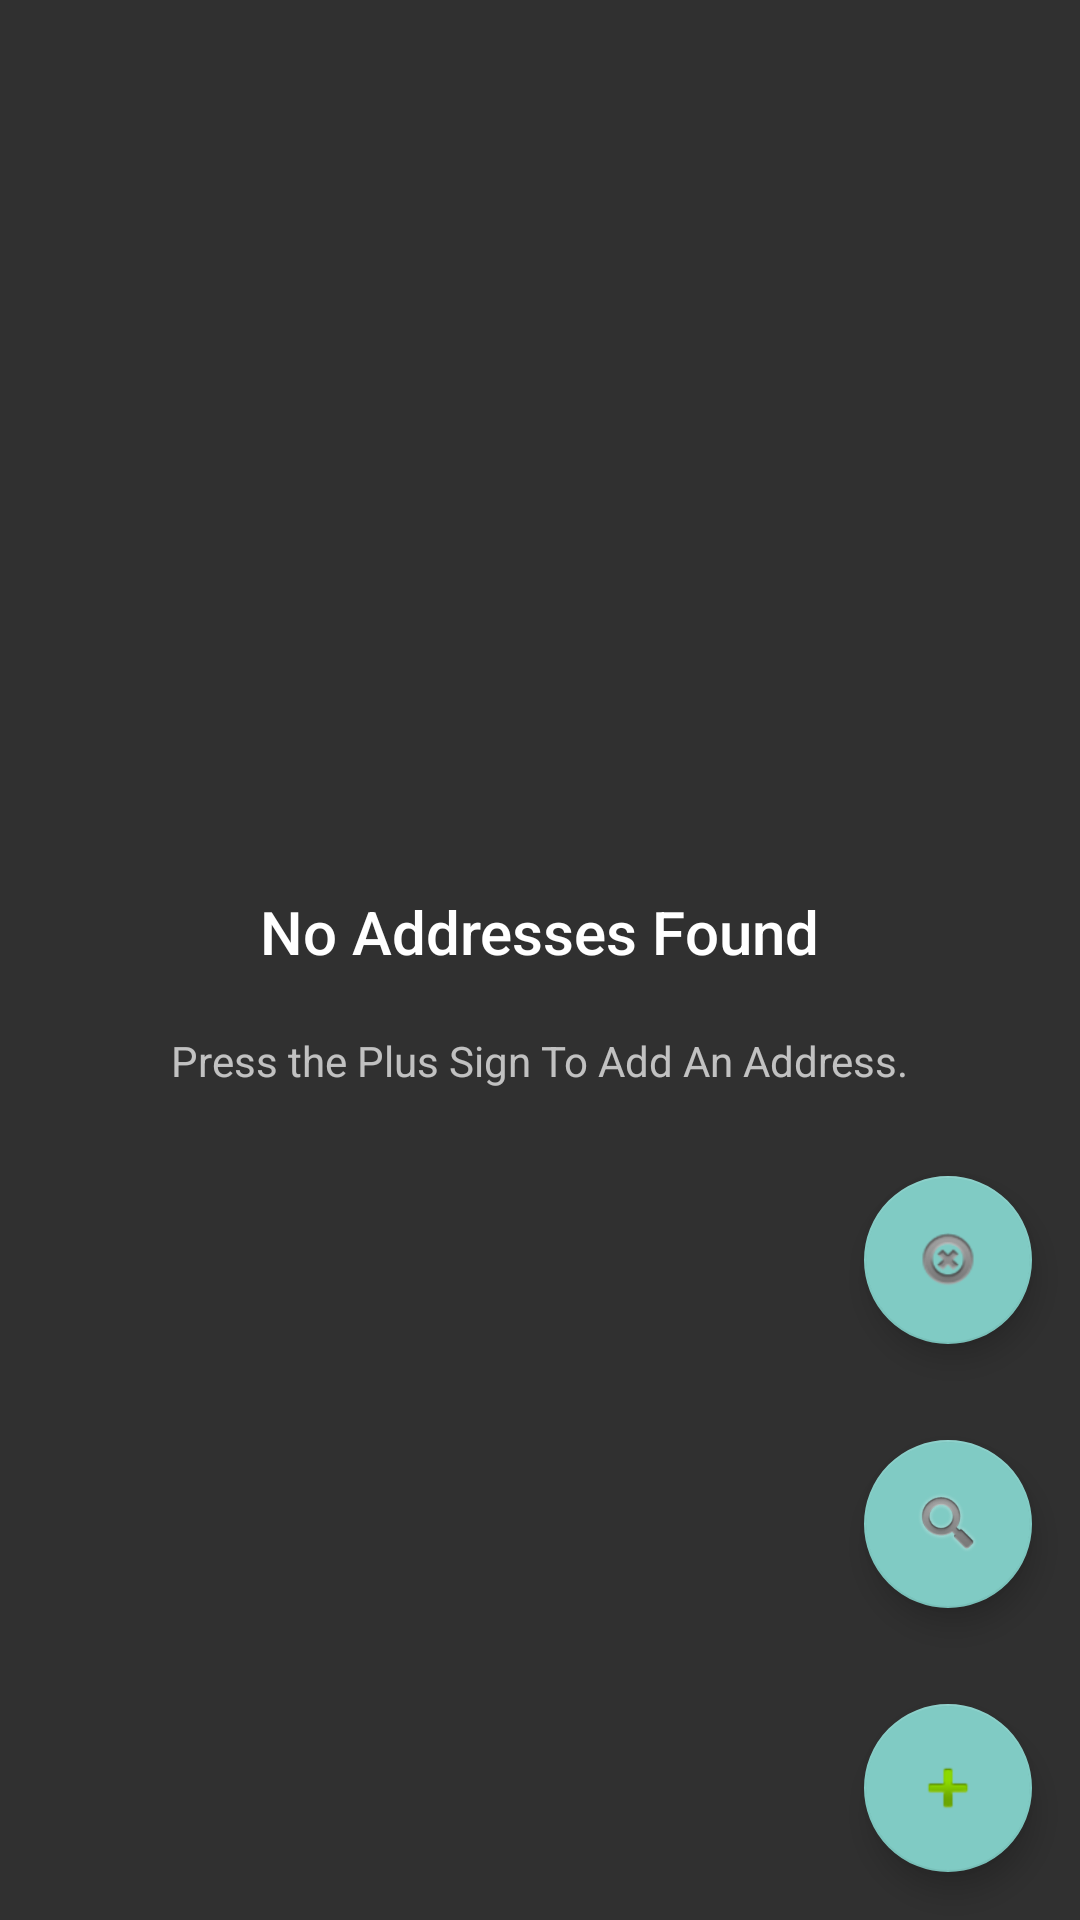

Named icons in this screenshot (1080 x 1920) and their bounding boxes, bbox=[x1, y1, x2, y2]:
add: bbox=[864, 1704, 1032, 1872]
search category: bbox=[864, 1440, 1032, 1608]
